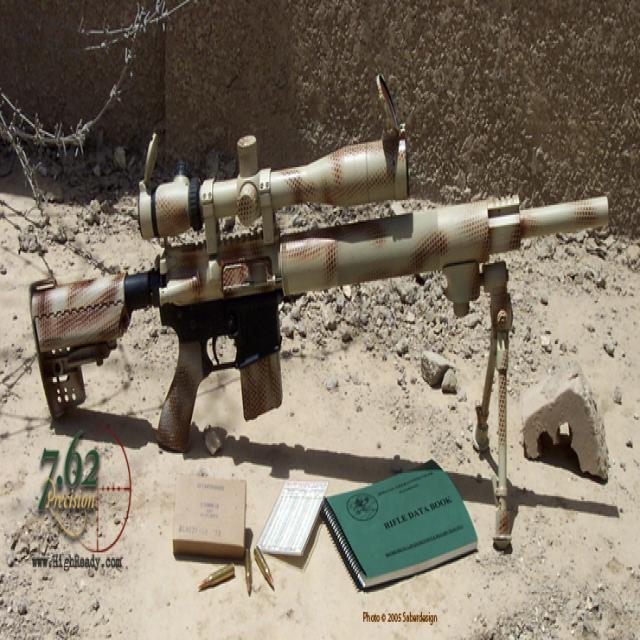Rifle: (29, 132, 610, 455)
